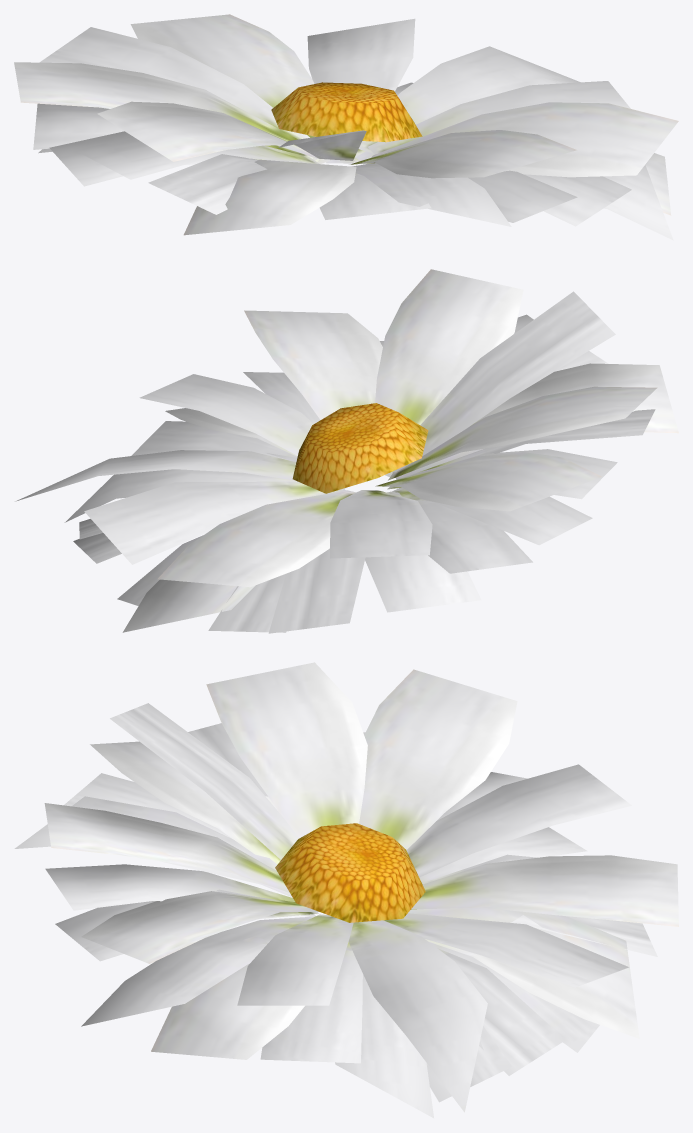
Rendered from chamomile.glb.
3 views of the same model, one above another, from view 1: azimuth 30°, elevation 25°; view 2: azimuth 150°, elevation 25°; view 3: azimuth 270°, elevation 25° (orthographic). The views are drawn at different scales.
Parts seen in each view (by area): view 1: Chamomile_Bush3_camomile_MI_0; view 2: Chamomile_Bush3_camomile_MI_0; view 3: Chamomile_Bush3_camomile_MI_0.
Part boxes in pixels (left/top/right/bottom): Chamomile_Bush3_camomile_MI_0: left=14, top=14, right=678, bottom=240; Chamomile_Bush3_camomile_MI_0: left=15, top=269, right=678, bottom=633; Chamomile_Bush3_camomile_MI_0: left=14, top=662, right=678, bottom=1118.
Bounding box in the file's own units: 0.1607 × 0.0562 × 0.1556.
1 material, 1 textured.
